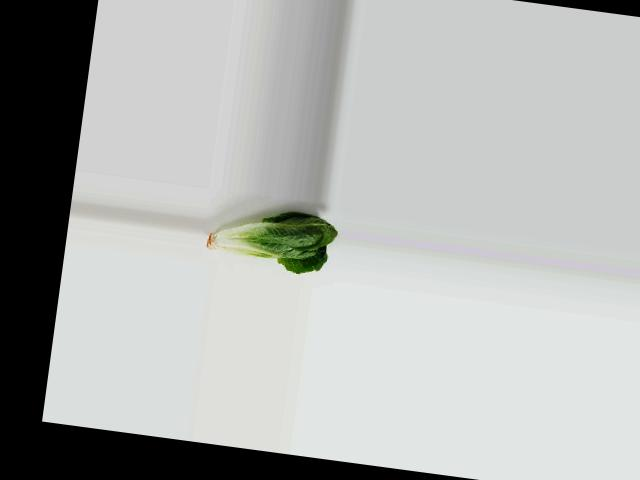lettuce: (198, 196, 340, 279)
